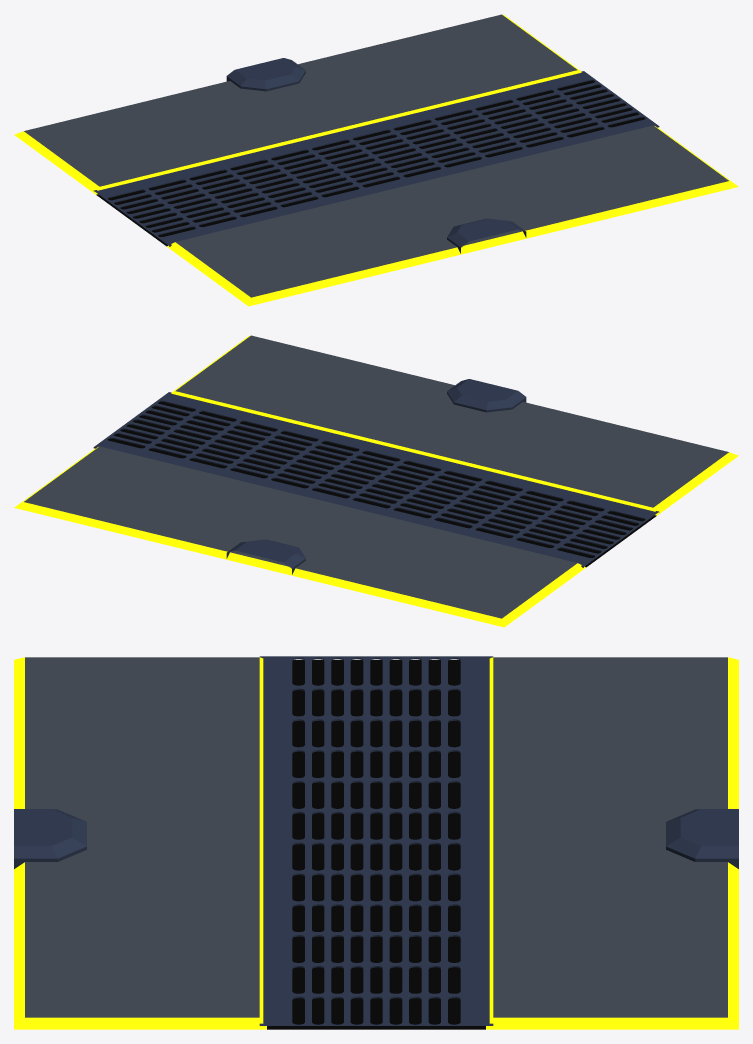
Rendered from SM_GroundTile2.fbx.
The picture shows the model from 3 angles, top to bottom: view 1: azimuth 30°, elevation 25°; view 2: azimuth 150°, elevation 25°; view 3: azimuth 270°, elevation 25°; orthographic projection. The views are drawn at different scales.
Visible parts, largest first — view 1: Plane.226; view 2: Plane.226; view 3: Plane.226.
Part boxes in pixels (left/top/right/bottom): Plane.226: left=14, top=14, right=738, bottom=306; Plane.226: left=14, top=335, right=738, bottom=627; Plane.226: left=14, top=656, right=738, bottom=1029.
Bounding box in the file's own units: 6 × 4.97 × 0.1308.
